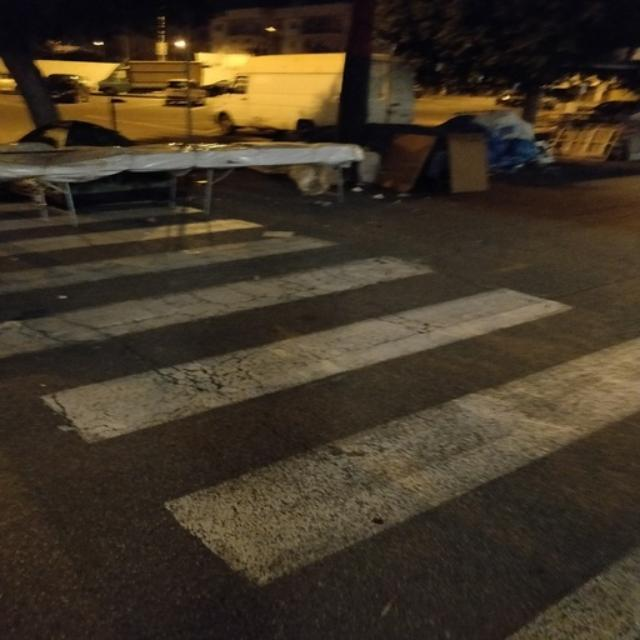sidewalk: (2, 211, 638, 633)
